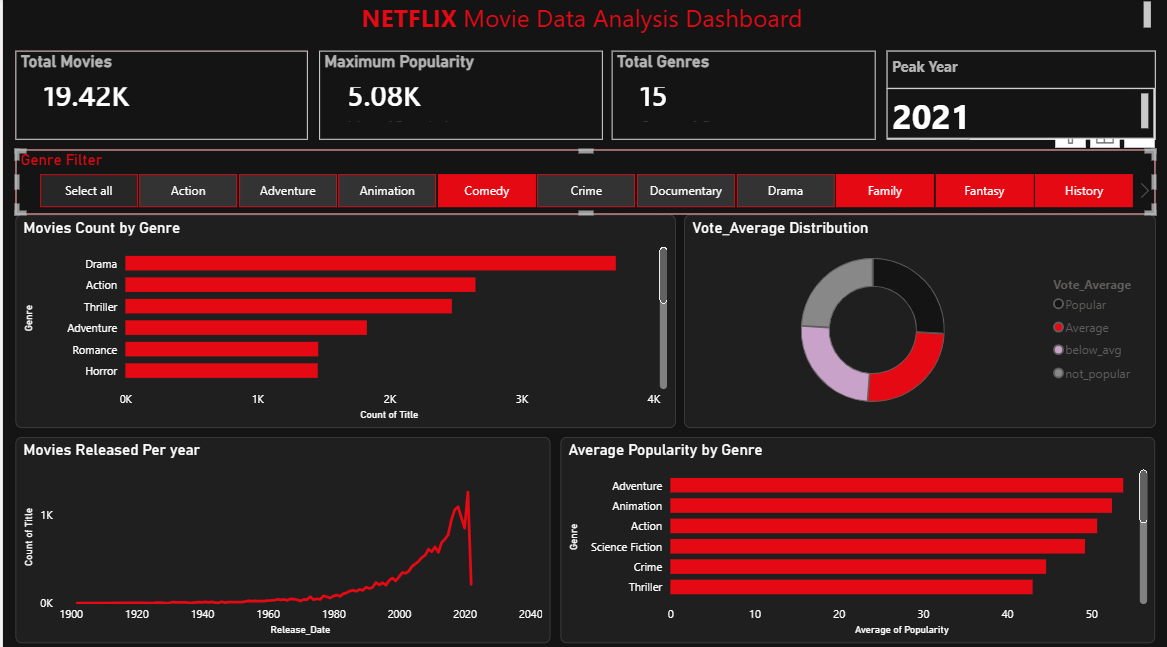

This screenshot's page, from the dashboard's own definition file:
{"tool":"powerbi","page":{"name":"Page 1","canvas":[1280,720],"ordinal":0},"visuals":[{"type":"shape","box":[13.7,59,321.1,97.4],"z":0},{"type":"clusteredBarChart","title":"Movies Count by Genre","fields":{"Category":["netflix_cleaned.Genre"],"Y":["CountNonNull(netflix_cleaned.Title)"]},"box":[13.7,238.8,724.5,234.6],"z":1000},{"type":"donutChart","title":" Vote_Average Distribution","fields":{"Category":["netflix_cleaned.Vote_Average"],"Y":["CountNonNull(netflix_cleaned.Title)"]},"box":[747.9,238.8,517.3,234.6],"z":2000},{"type":"lineChart","title":"Movies Released Per year","fields":{"Category":["netflix_cleaned.Release_Date"],"Y":["CountNonNull(netflix_cleaned.Title)"]},"box":[13.7,483,587.3,226.4],"z":3000},{"type":"clusteredBarChart","title":"Average Popularity by Genre","fields":{"Y":["Avg(netflix_cleaned.Popularity)"],"Category":["netflix_cleaned.Genre"]},"box":[612,483,653.2,226.4],"z":4000},{"type":"cardVisual","title":"Total Movies","fields":{"Data":["CountNonNull(netflix_cleaned.Title)"]},"box":[13.7,59,321.1,97.4],"z":5000},{"type":"cardVisual","title":"Maximum Popularity","fields":{"Data":["Max(netflix_cleaned.Popularity)"]},"box":[347.2,59,311.5,97.4],"z":6000},{"type":"cardVisual","title":"Total Genres","fields":{"Data":["Count(netflix_cleaned.Genre)"]},"box":[668.3,59,289.5,97.4],"z":7000},{"type":"cardVisual","box":[970.2,59,295,97.4],"z":8000},{"type":"slicer","title":"Genre Filter","fields":{"Values":["netflix_cleaned.Genre"]},"box":[13.7,167.4,1251.5,71.4],"z":9000},{"type":"textbox","box":[13.7,0,1251.5,49.4],"z":10000},{"type":"textbox","box":[983.5,91.2,269.4,52.7],"z":11000},{"type":"textbox","box":[970.7,58.4,295.1,41.3],"z":12000},{"type":"textbox","box":[970.7,99.8,293.6,55.6],"z":13000}]}

Visuals, with their boxes in screenshot pixels (x1, y1, x2, y2), scaled from the page's 1280x720 canvas onto the 1167x647 screenshot:
shape: Rect(12, 53, 305, 141)
"Movies Count by Genre" clusteredBarChart: Rect(12, 215, 673, 425)
" Vote_Average Distribution" donutChart: Rect(682, 215, 1154, 425)
"Movies Released Per year" lineChart: Rect(12, 434, 548, 637)
"Average Popularity by Genre" clusteredBarChart: Rect(558, 434, 1154, 637)
"Total Movies" cardVisual: Rect(12, 53, 305, 141)
"Maximum Popularity" cardVisual: Rect(317, 53, 601, 141)
"Total Genres" cardVisual: Rect(609, 53, 873, 141)
cardVisual: Rect(885, 53, 1154, 141)
"Genre Filter" slicer: Rect(12, 150, 1154, 215)
textbox: Rect(12, 0, 1154, 44)
textbox: Rect(897, 82, 1142, 129)
textbox: Rect(885, 52, 1154, 90)
textbox: Rect(885, 90, 1153, 140)
